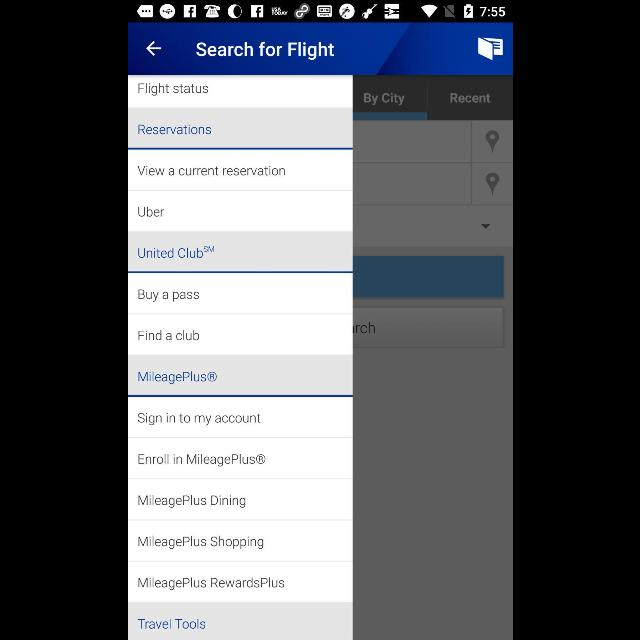icon: (478, 38, 502, 61), (146, 41, 160, 57)
panel: (128, 75, 352, 640)
text: (196, 41, 334, 60), (138, 578, 284, 590), (138, 536, 262, 550), (137, 412, 260, 426), (138, 454, 264, 466), (138, 494, 245, 508), (136, 166, 284, 176), (137, 82, 207, 96), (138, 372, 216, 384), (138, 246, 215, 258), (137, 124, 210, 136), (137, 618, 205, 630), (138, 290, 198, 302), (138, 330, 198, 340), (138, 206, 164, 218)
toolbar: (128, 23, 512, 75)
uppertaskbar: (128, 1, 512, 23)
